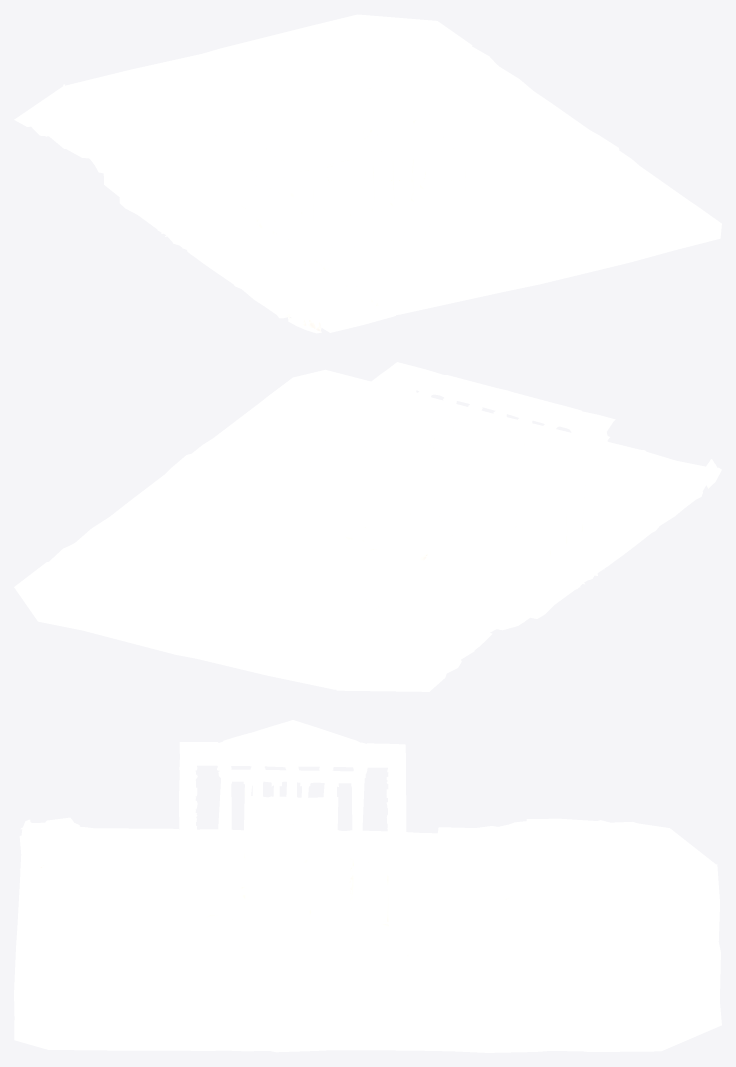
File: temple-of-winds.glb
The picture shows the model from 3 angles, top to bottom: view 1: azimuth 30°, elevation 25°; view 2: azimuth 150°, elevation 25°; view 3: azimuth 270°, elevation 25°; orthographic projection. The views are drawn at different scales.
Parts seen in each view (by area): view 1: Object_4; view 2: Object_4; view 3: Object_4.
Boxes of the visible parts, bbox=[...] form: Object_4: bbox=[14, 14, 721, 333]; Object_4: bbox=[14, 362, 721, 691]; Object_4: bbox=[14, 720, 721, 1052].
Bounding box in the file's own units: 39.98 × 11.05 × 52.52.
1 material, 1 textured.
